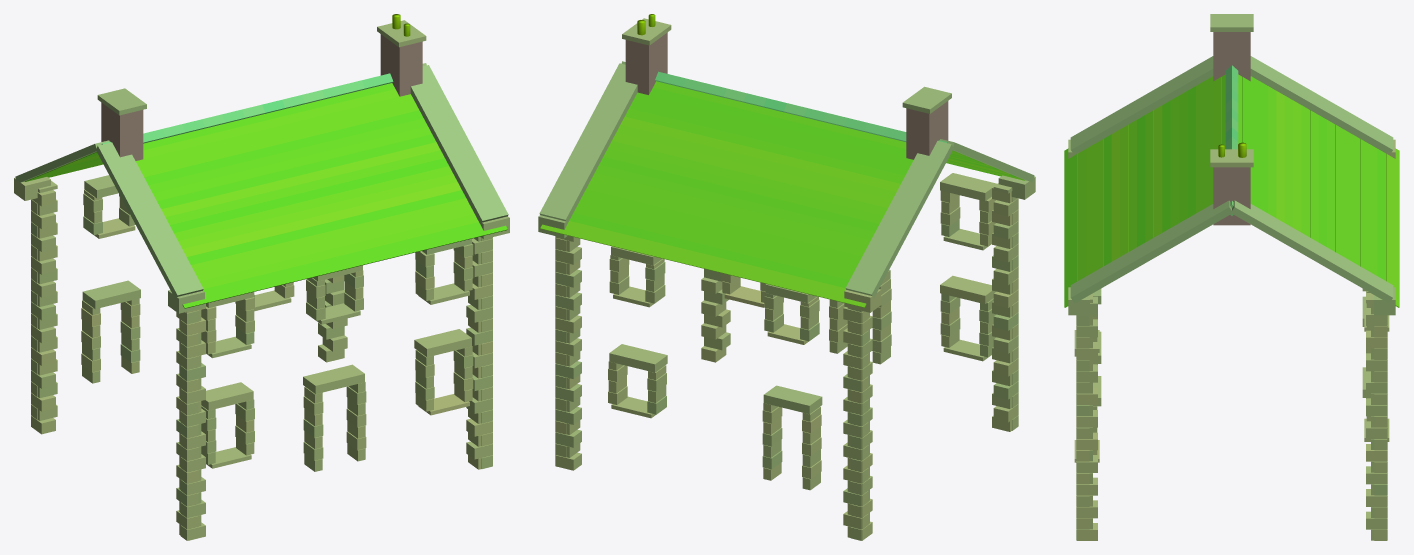
The model's file is SM_Bld_194_Stone.glb.
3 renders of one model, left to right at view 1: azimuth 30°, elevation 25°; view 2: azimuth 150°, elevation 25°; view 3: azimuth 270°, elevation 25°, orthographic.
Visible parts, largest first — view 1: SM_Bld_194_Stone; view 2: SM_Bld_194_Stone; view 3: SM_Bld_194_Stone.
Part boxes in pixels (x1=…): SM_Bld_194_Stone: x1=14, y1=14, x2=509, y2=540; SM_Bld_194_Stone: x1=538, y1=14, x2=1035, y2=540; SM_Bld_194_Stone: x1=1064, y1=14, x2=1399, y2=540.
Size of the model in its own units: 9.12 by 10.34 by 8.05.
